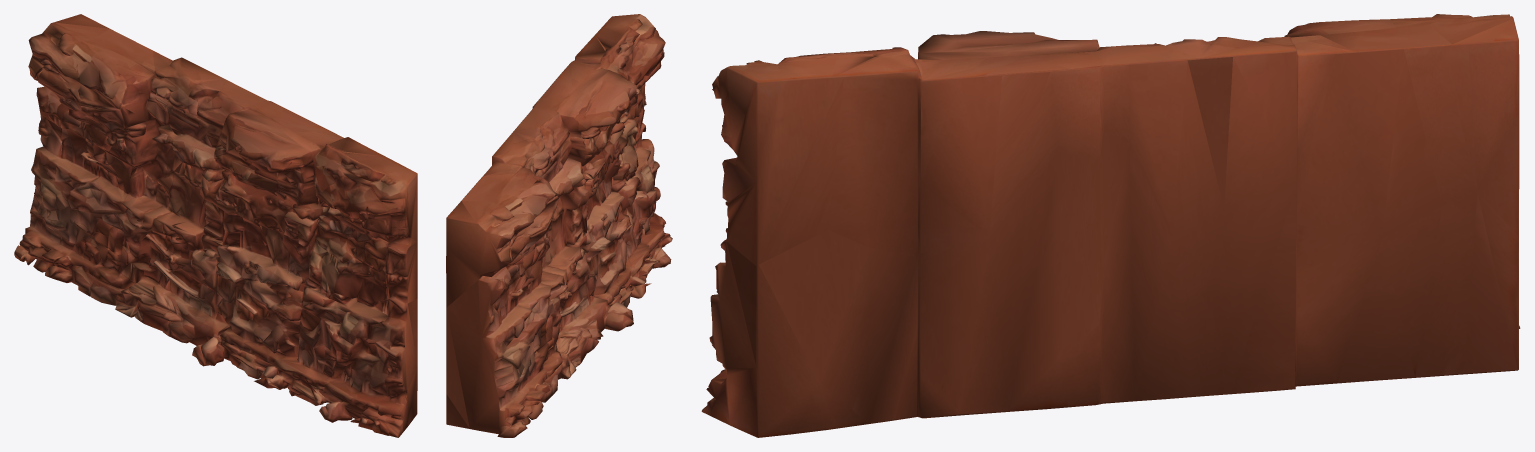
The model's file is env_west_canyonwall.fbx.
3 views of the same model, side by side, from view 1: azimuth 30°, elevation 25°; view 2: azimuth 150°, elevation 25°; view 3: azimuth 270°, elevation 25° (orthographic). The views are drawn at different scales.
Parts seen in each view (by area): view 1: env_west_canyonwall_LOD0; view 2: env_west_canyonwall_LOD0; view 3: env_west_canyonwall_LOD0.
Part boxes in pixels (bbox=[...]): env_west_canyonwall_LOD0: bbox=[14, 14, 417, 437]; env_west_canyonwall_LOD0: bbox=[446, 14, 672, 437]; env_west_canyonwall_LOD0: bbox=[701, 14, 1520, 437].
Size of what is drawn, in the model's own units: 0.3145 by 0.4774 by 0.9823.
